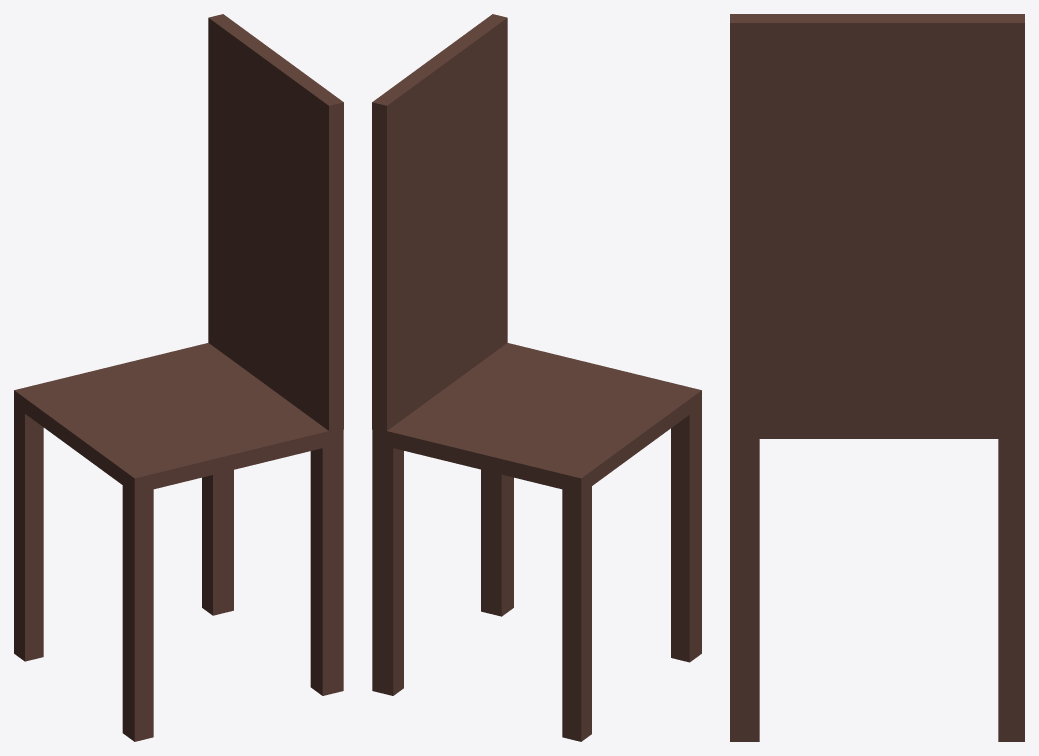
Rendered from SM_Chair.fbx.
3 views of the same model, side by side, from view 1: azimuth 30°, elevation 25°; view 2: azimuth 150°, elevation 25°; view 3: azimuth 270°, elevation 25° (orthographic). The views are drawn at different scales.
Visible parts, largest first — view 1: polySurface82; view 2: polySurface82; view 3: polySurface82.
Boxes of the visible parts, bbox=[...] form: polySurface82: bbox=[14, 14, 343, 741]; polySurface82: bbox=[372, 14, 701, 741]; polySurface82: bbox=[730, 14, 1024, 741].
Bounding box in the file's own units: 45.32 × 122 × 45.26.
